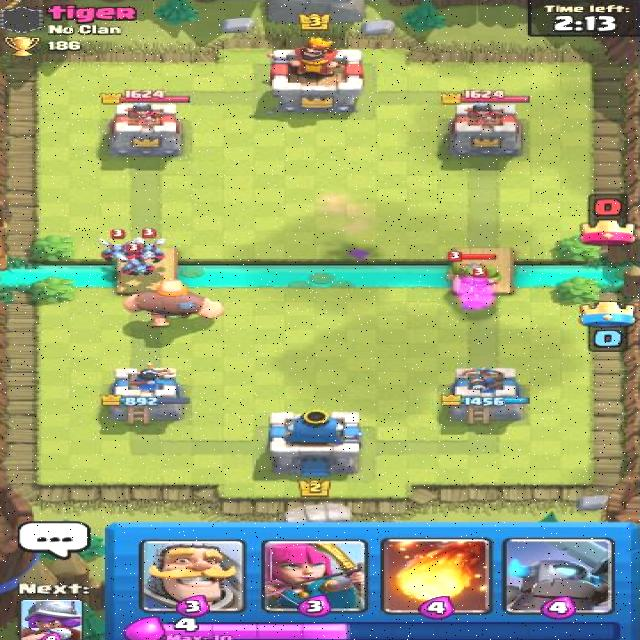Enemy-Archer: (454, 266, 508, 299)
Enemy-Brawler: (444, 249, 506, 290)
Enemy-Minion: (128, 227, 171, 264), (96, 227, 139, 263), (118, 242, 158, 278)
Player-Giant: (122, 278, 225, 329)
